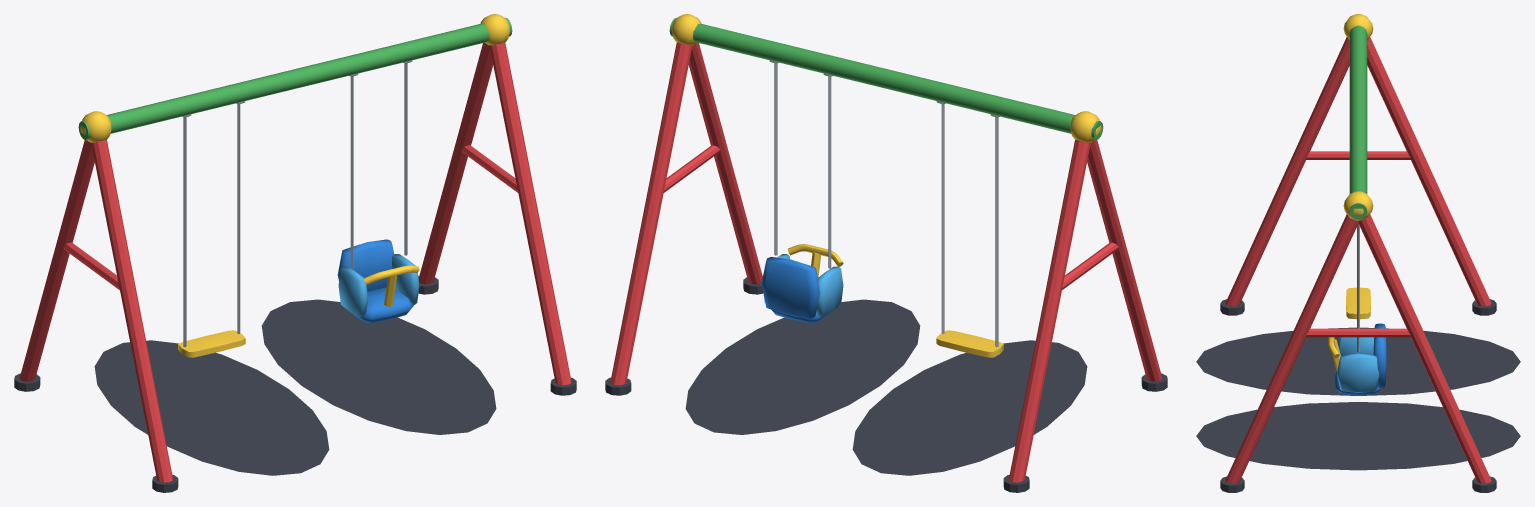
File: balanco_duplo.glb
3 views of the same model, side by side, from view 1: azimuth 30°, elevation 25°; view 2: azimuth 150°, elevation 25°; view 3: azimuth 270°, elevation 25° (orthographic). The views are drawn at different scales.
Parts seen in each view (by area): view 1: balanco_duplo, balanco_2, balanco_1; view 2: balanco_duplo, balanco_2, balanco_1; view 3: balanco_duplo, balanco_2, balanco_1.
Boxes of the visible parts, box(x1,y1,x2,y2) form: balanco_duplo: box(14, 14, 576, 492); balanco_2: box(337, 60, 419, 322); balanco_1: box(178, 101, 245, 357); balanco_duplo: box(605, 14, 1167, 492); balanco_2: box(761, 60, 843, 322); balanco_1: box(936, 101, 1003, 357); balanco_duplo: box(1196, 14, 1520, 492); balanco_2: box(1328, 224, 1386, 395); balanco_1: box(1346, 287, 1370, 319).
Size of the model in its own units: 3.31 by 2.41 by 2.4.
1 material, 1 textured.
